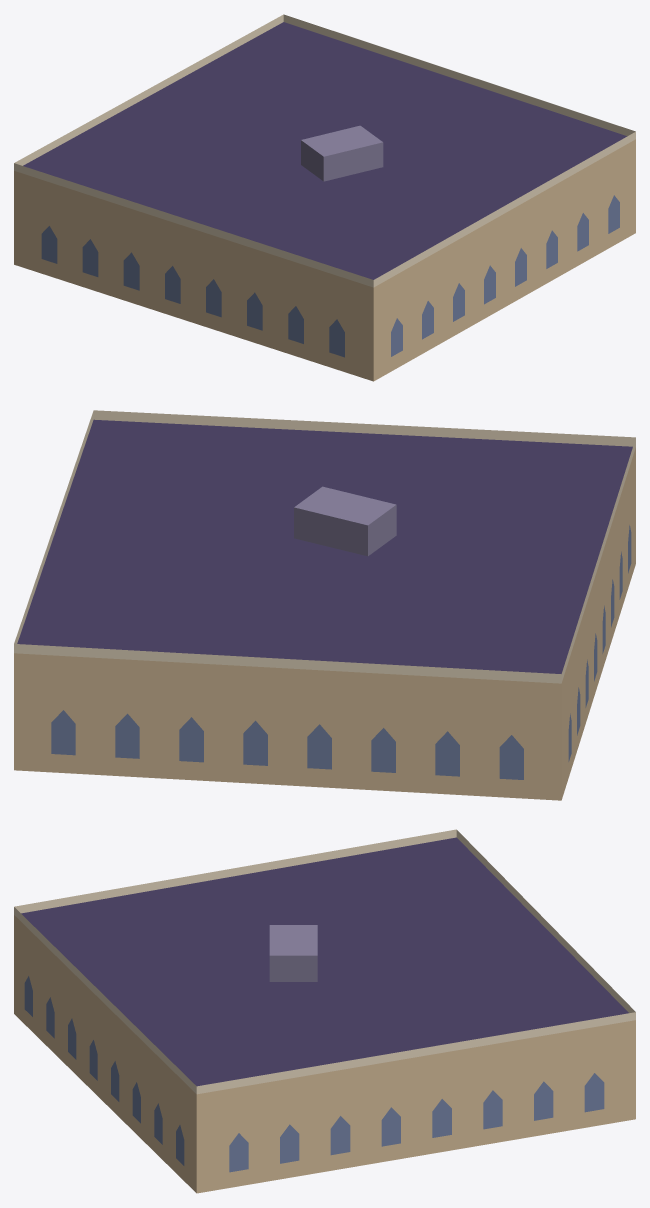
The model's file is b-032-althouse-day.glb.
3 views of the same model, one above another, from view 1: azimuth 30°, elevation 25°; view 2: azimuth 150°, elevation 25°; view 3: azimuth 270°, elevation 25° (orthographic). The views are drawn at different scales.
Parts seen in each view (by area): view 1: campus/b-032-althouse-day-0; view 2: campus/b-032-althouse-day-0; view 3: campus/b-032-althouse-day-0.
Part boxes in pixels (x1,y1,x2,y2): campus/b-032-althouse-day-0: (14,14,635,381); campus/b-032-althouse-day-0: (14,410,635,800); campus/b-032-althouse-day-0: (14,829,635,1193).
Size of the model in its own units: 37.78 by 8.6 by 38.65.
